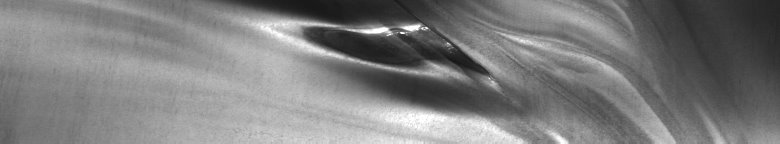ke: (244, 4, 628, 136)
